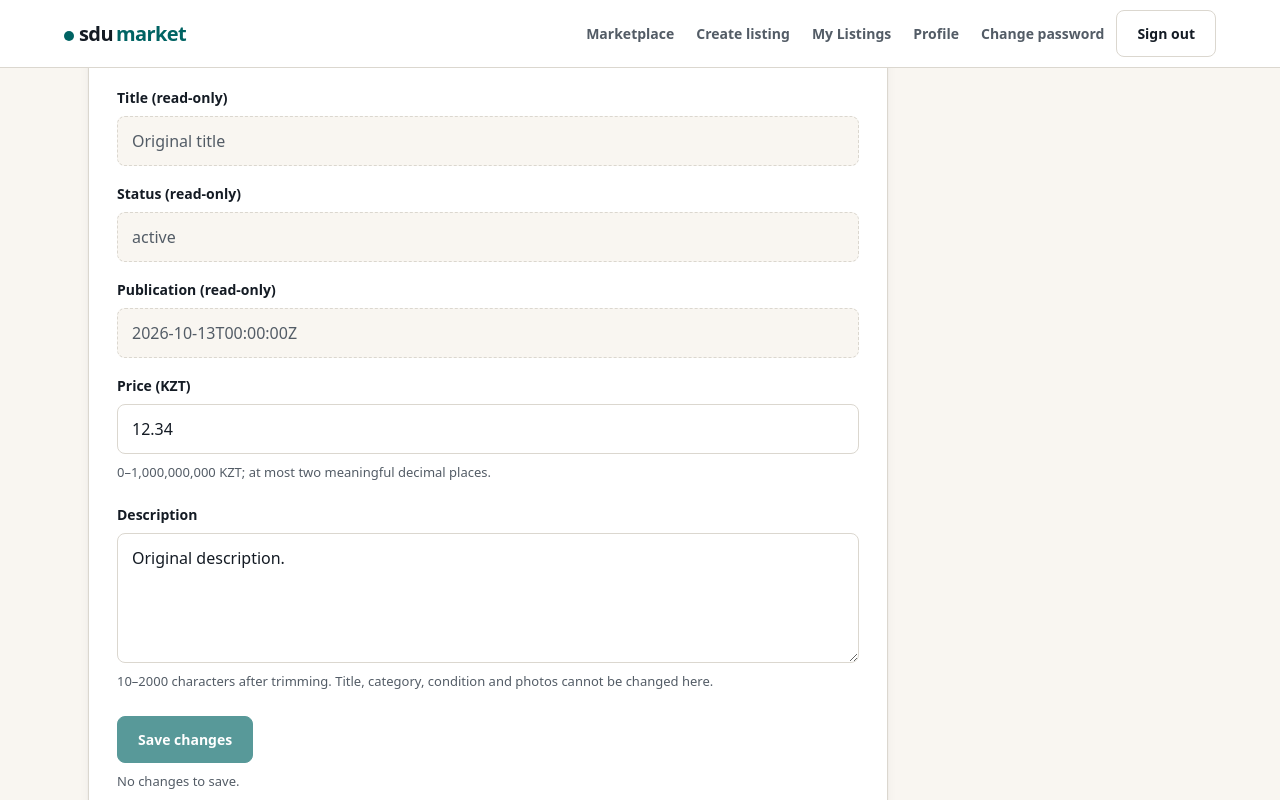
Test: changed-only exact price PATCH uses returned authoritative status and blocks empty save
This screenshot has width=1280, height=800.
(page scrolled)
Submit the form named "Edit listing"
Expected: the button "Save changes" is disabled, [117,716,253,763]
Replace the text in the field labelled "Price (KZT)" with "15.6700" at (488, 429), box [117,404,859,454]
(page scrolled)
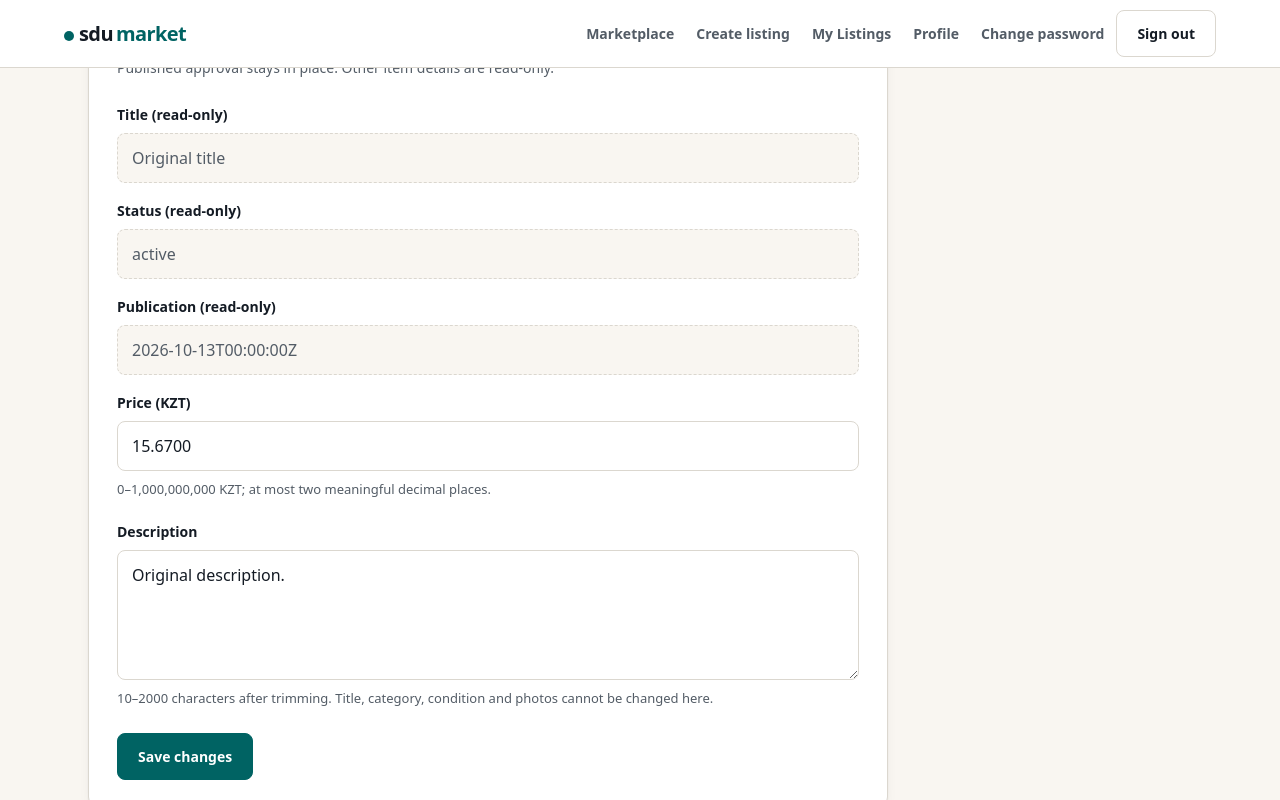
Submit the form named "Edit listing"
(page scrolled)
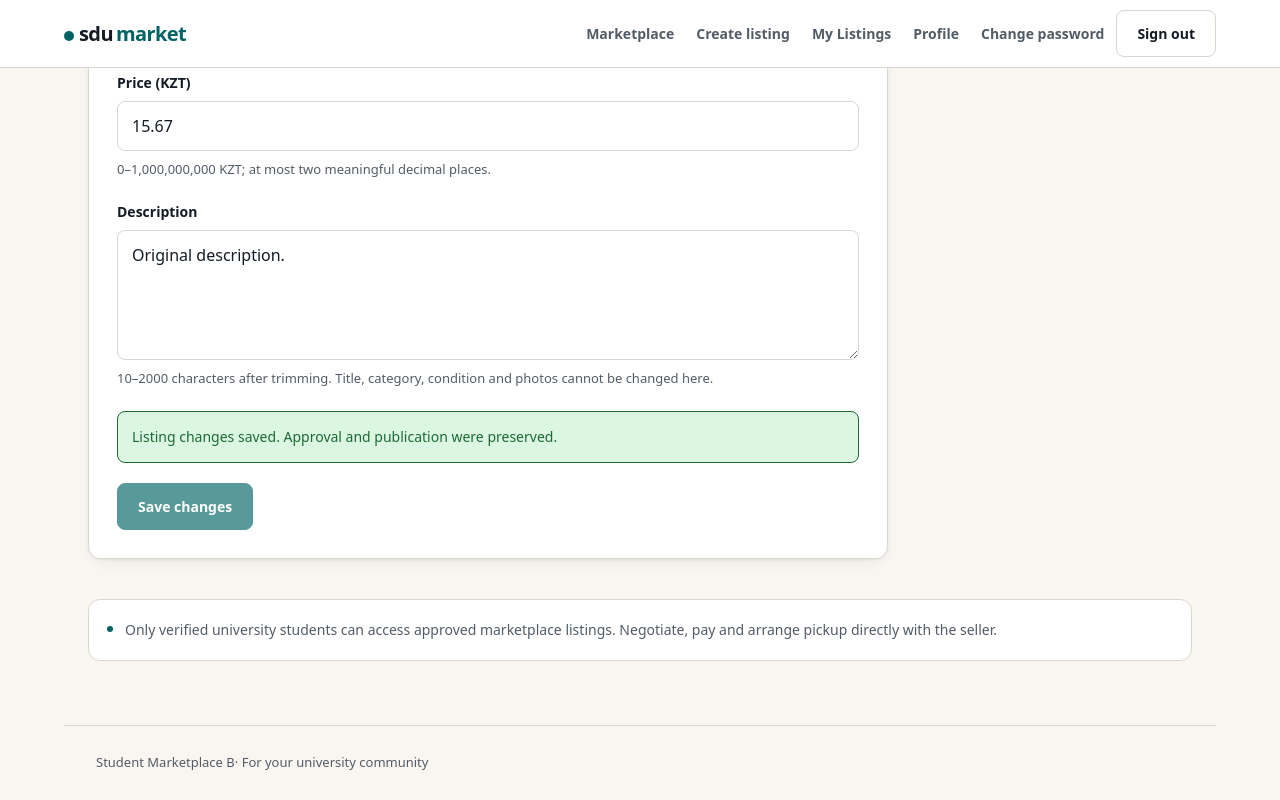
Expected: the text "Listing changes saved. Approval and publication were preserved." is shown, [117,411,859,463]
Expected: the field labelled "Price (KZT)" holds "15.67", [117,101,859,151]
Expected: the button "Save changes" is disabled, [117,483,253,530]
